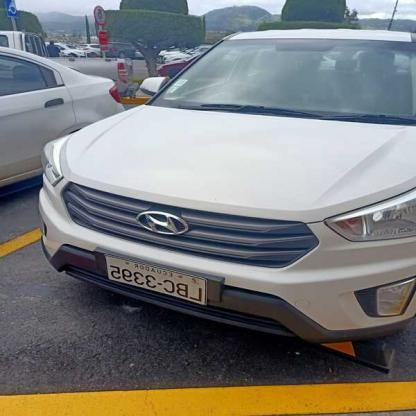Placa: (103, 252, 211, 312)
